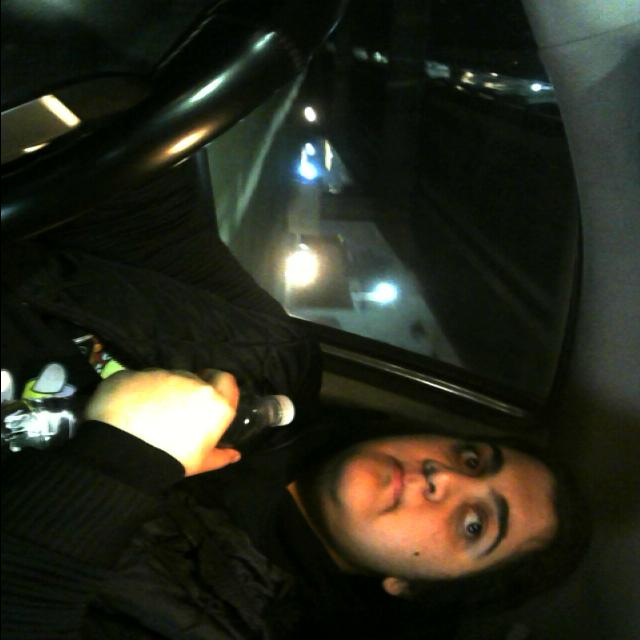drinking: (0, 362, 310, 454)
